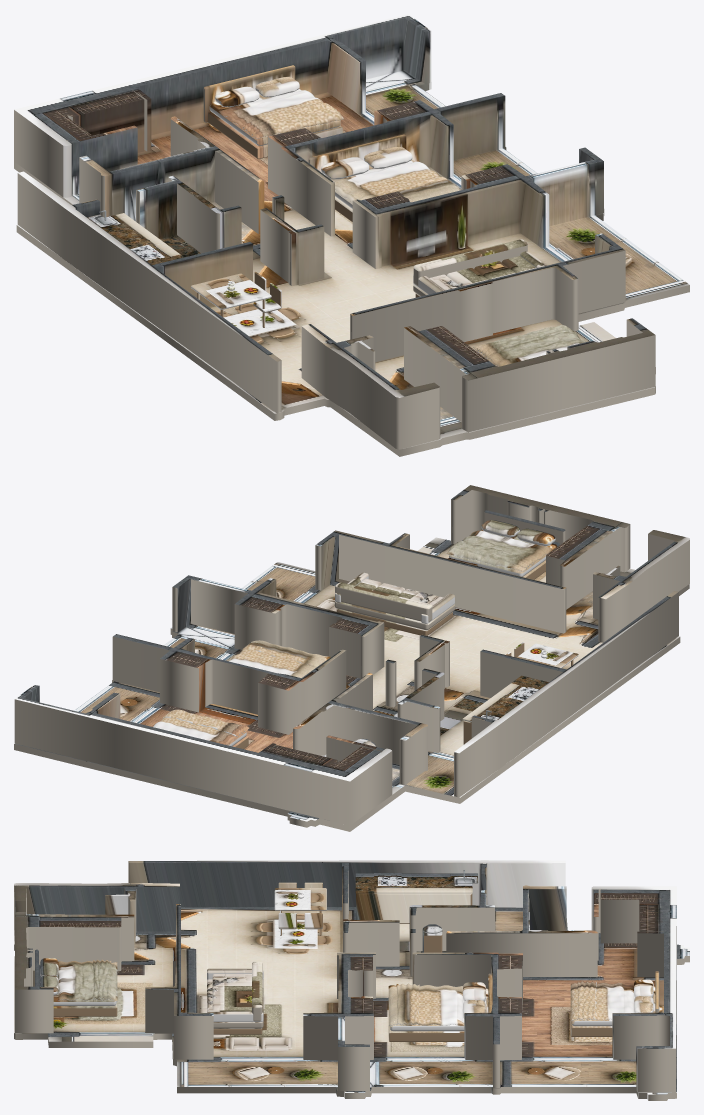
The model's file is p8-02-u03-0112-image-model.glb.
3 views of the same model, one above another, from view 1: azimuth 30°, elevation 25°; view 2: azimuth 150°, elevation 25°; view 3: azimuth 270°, elevation 25° (orthographic). The views are drawn at different scales.
Parts seen in each view (by area): view 1: Partition walls, Apartment floor, Draped bed linen, Draped bed linen.002, Sofa back, Marble dining top, Stone worktop, Draped bed linen.004, Upholstered headboard, Upholstered headboard.001, Draped bed linen.001, Draped bed linen.005 (+7 smaller); view 2: Partition walls, Apartment floor, Sofa back, Draped bed linen.004, Draped bed linen.002, Stone worktop, Draped bed linen, Upholstered sofa frame, Draped bed linen.003, Marble dining top, Upholstered headboard.002, Draped bed linen.001 (+3 smaller); view 3: Partition walls, Apartment floor, Kitchen cabinets, Draped bed linen.002, Stone worktop, Draped bed linen.004, Draped bed linen, Marble dining top, Draped bed linen.003, Walnut upholstered base.001, Walnut upholstered base.002, Draped bed linen.001 (+12 smaller).
Boxes of the visible parts, <box> form: Partition walls: <box>14,14,655,449</box>; Apartment floor: <box>14,70,689,456</box>; Draped bed linen: <box>219,90,343,138</box>; Draped bed linen.002: <box>334,161,460,203</box>; Sofa back: <box>413,239,527,285</box>; Marble dining top: <box>191,273,271,309</box>; Stone worktop: <box>104,213,184,264</box>; Draped bed linen.004: <box>473,328,586,366</box>; Upholstered headboard: <box>203,65,295,122</box>; Upholstered headboard.001: <box>308,134,406,171</box>; Draped bed linen.001: <box>241,103,340,135</box>; Draped bed linen.005: <box>476,325,577,357</box>; Partition walls: <box>14,485,689,825</box>; Apartment floor: <box>14,535,689,831</box>; Sofa back: <box>335,582,432,621</box>; Draped bed linen.004: <box>446,530,552,571</box>; Draped bed linen.002: <box>229,640,330,677</box>; Stone worktop: <box>462,675,548,722</box>; Draped bed linen: <box>153,710,249,744</box>; Upholstered sofa frame: <box>334,601,454,630</box>; Draped bed linen.003: <box>242,640,328,667</box>; Marble dining top: <box>517,643,578,668</box>; Upholstered headboard.002: <box>484,510,565,544</box>; Draped bed linen.001: <box>163,709,246,737</box>; Partition walls: <box>14,860,676,1092</box>; Apartment floor: <box>14,907,689,1100</box>; Kitchen cabinets: <box>356,893,472,923</box>; Draped bed linen.002: <box>388,985,463,1026</box>; Stone worktop: <box>355,873,472,893</box>; Draped bed linen.004: <box>57,961,117,1001</box>; Draped bed linen: <box>570,982,634,1020</box>; Marble dining top: <box>274,888,326,910</box>; Draped bed linen.003: <box>396,983,419,1025</box>; Walnut upholstered base.001: <box>388,1026,464,1041</box>; Walnut upholstered base.002: <box>53,1001,117,1016</box>; Draped bed linen.001: <box>577,981,596,1019</box>.
Bounding box in the file's own units: 10.65 × 1.3 × 15.94.
Materials: 14 (3 with a texture image).
